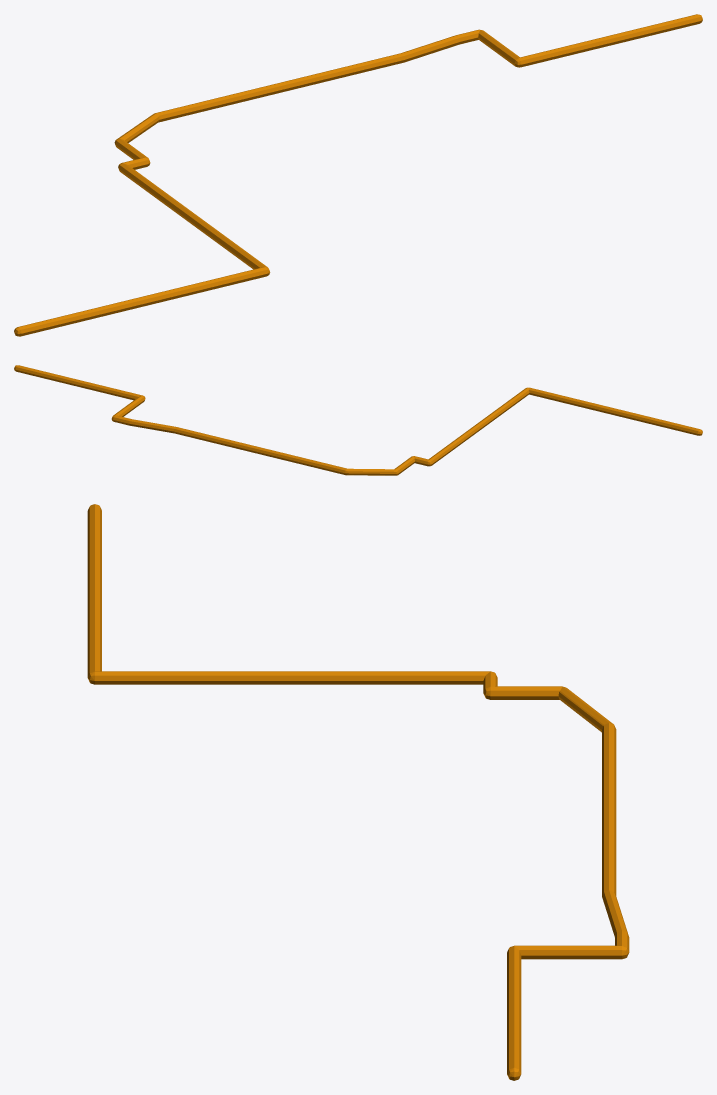
The picture shows the model from 3 angles, top to bottom: view 1: azimuth 30°, elevation 25°; view 2: azimuth 150°, elevation 25°; view 3: azimuth 270°, elevation 25°; orthographic projection. The views are drawn at different scales.
Bounding box in the file's own units: 1873 × 20 × 753.
